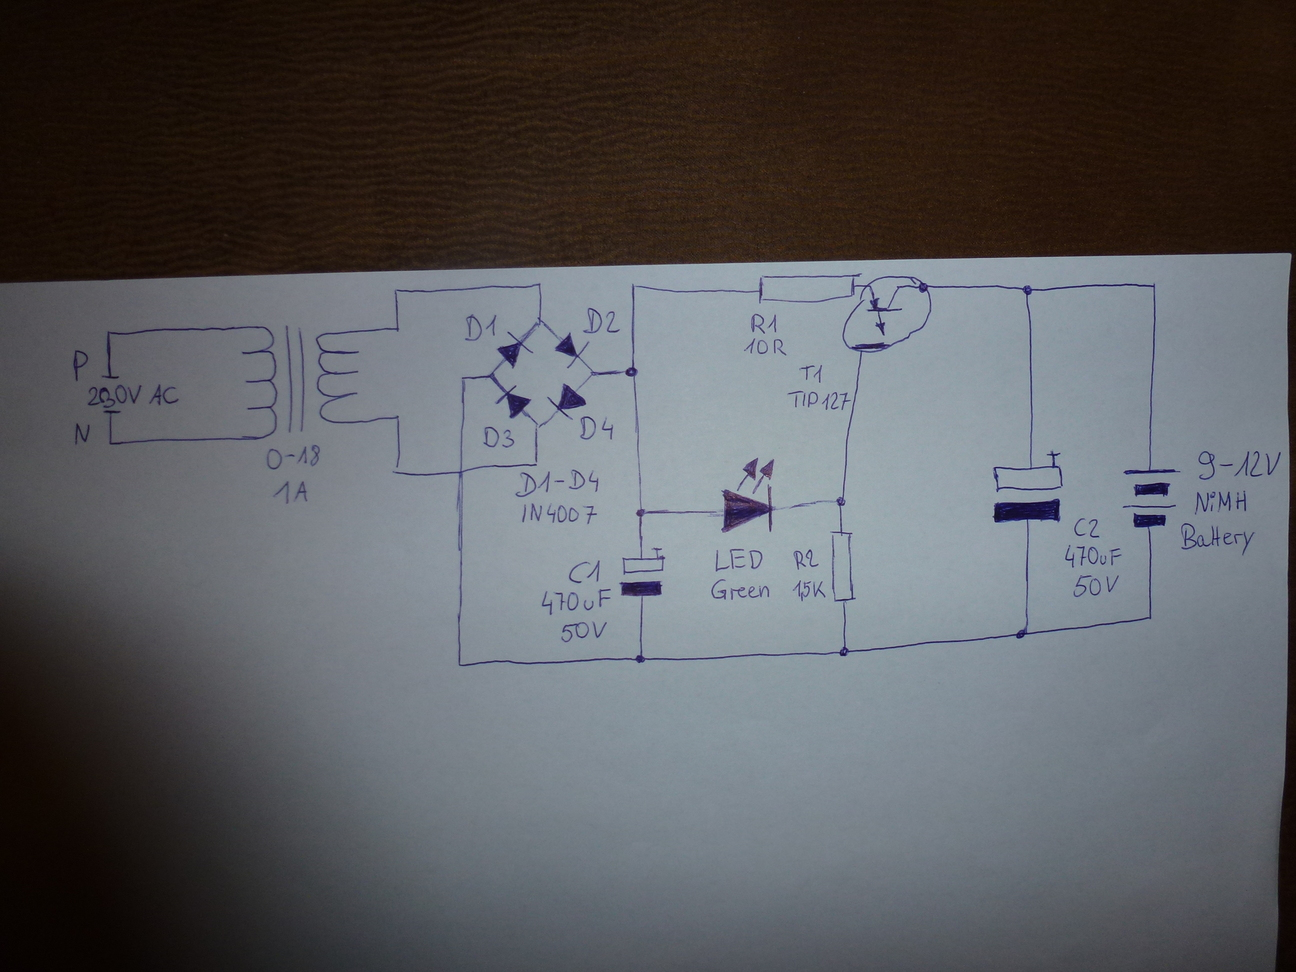capacitor.polarized: (989, 448, 1068, 525), (617, 545, 668, 599)
crossover: (456, 466, 467, 477)
diode: (493, 377, 535, 420), (497, 330, 533, 369), (551, 381, 584, 414), (553, 330, 583, 366)
diode.light_emitting: (719, 456, 778, 536)
junction: (1018, 281, 1037, 300), (631, 650, 650, 667), (1013, 625, 1031, 642), (832, 492, 848, 511), (633, 505, 650, 521), (532, 314, 546, 328), (104, 436, 118, 449), (837, 643, 850, 658), (624, 364, 638, 378), (390, 463, 402, 477), (454, 658, 467, 670), (485, 370, 498, 382), (585, 367, 597, 379), (1148, 280, 1160, 291), (528, 457, 540, 469), (103, 327, 114, 338), (1144, 612, 1155, 623), (532, 419, 543, 430), (532, 279, 544, 289), (459, 373, 469, 384), (392, 323, 402, 334), (391, 286, 402, 296), (629, 281, 639, 291), (392, 414, 402, 422)
resistor: (757, 273, 860, 306), (827, 527, 858, 606)
terminal: (98, 372, 122, 381), (101, 407, 123, 417)
text: (1180, 520, 1256, 557), (1200, 447, 1284, 481), (518, 466, 601, 499), (86, 381, 179, 408), (517, 499, 598, 526), (540, 587, 612, 616), (787, 387, 852, 412), (1192, 487, 1250, 515), (1063, 543, 1123, 570), (264, 444, 322, 471), (1071, 572, 1121, 600), (713, 548, 767, 574), (558, 618, 609, 643), (712, 579, 772, 600), (582, 305, 620, 336), (462, 311, 500, 342), (575, 415, 615, 442), (272, 479, 311, 507), (67, 347, 92, 390), (743, 334, 787, 356), (481, 425, 515, 451), (568, 558, 601, 585), (747, 312, 779, 337), (794, 577, 827, 600), (1071, 516, 1101, 540), (792, 547, 818, 571), (798, 362, 824, 384), (72, 421, 90, 445)
transformer: (239, 322, 363, 443)
transistor: (840, 273, 935, 355)
voltage.dc: (1118, 466, 1183, 530)
